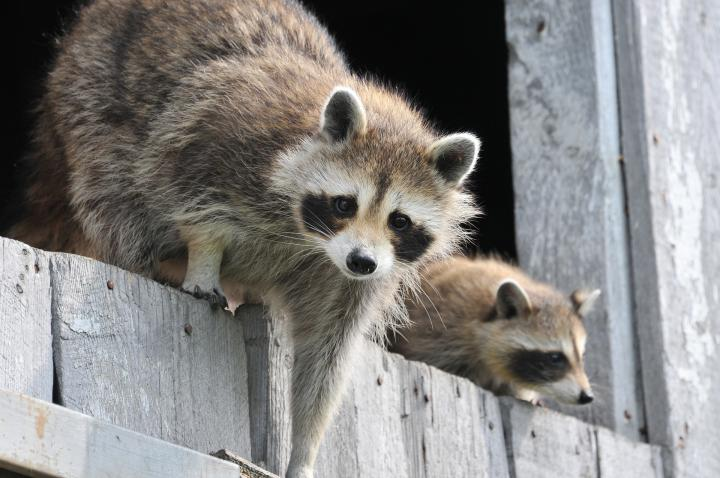raccoon: (21, 1, 485, 369), (426, 252, 626, 436)
